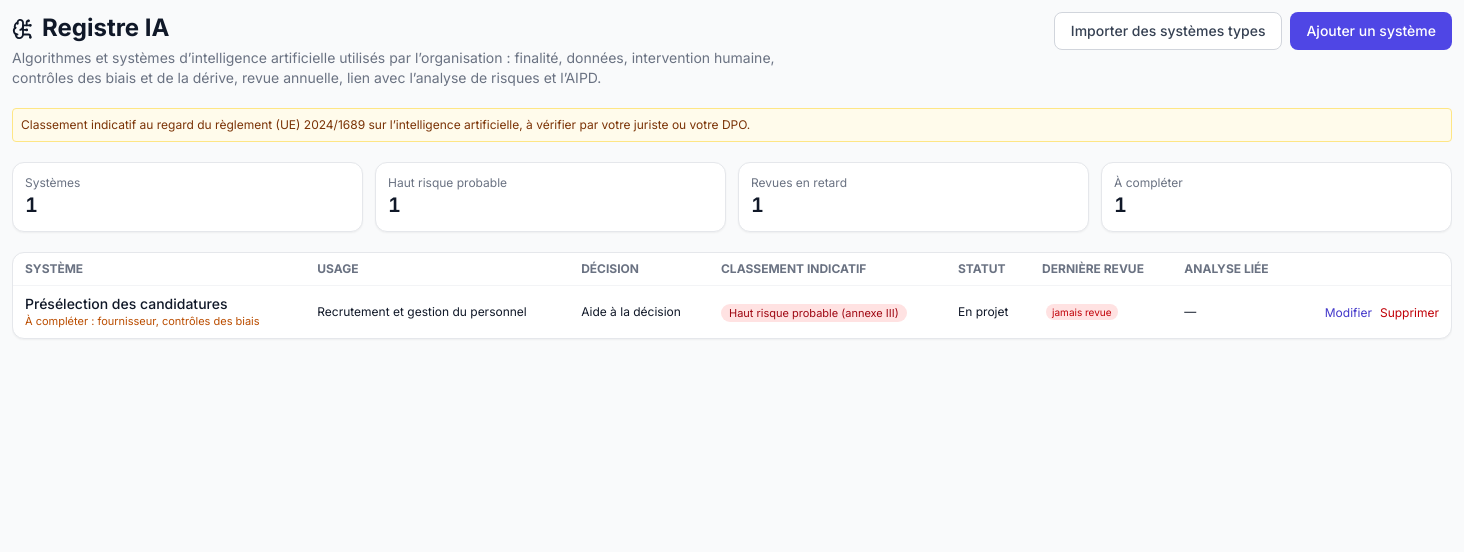
Test case: RegistreIaManager › import des systèmes types : déjà importé non sélectionnable, import des nouveaux
Click the button "Importer des systèmes types". click: coordinates (1168, 31)
box: [1054, 12, 1282, 50]
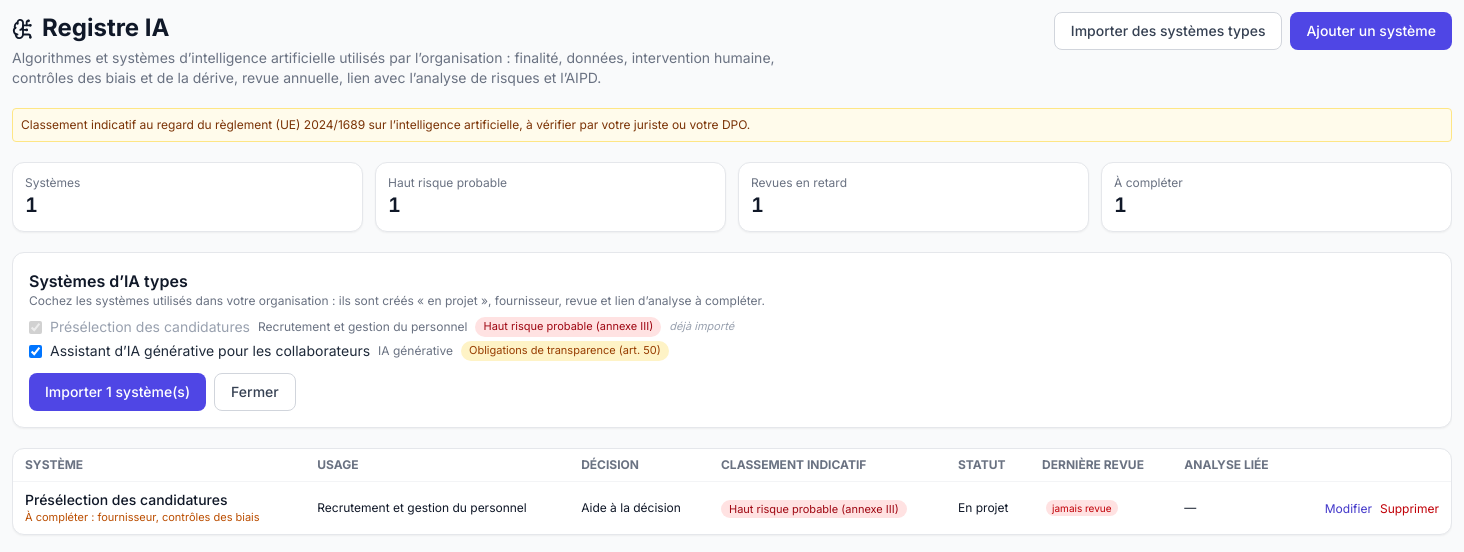
Check: the checkbox labelled "Présélection des candidatures" is disabled, box [29, 320, 42, 334]
Click the button "Importer 1 système(s)". click: coordinates (118, 392)
box: [29, 373, 206, 411]
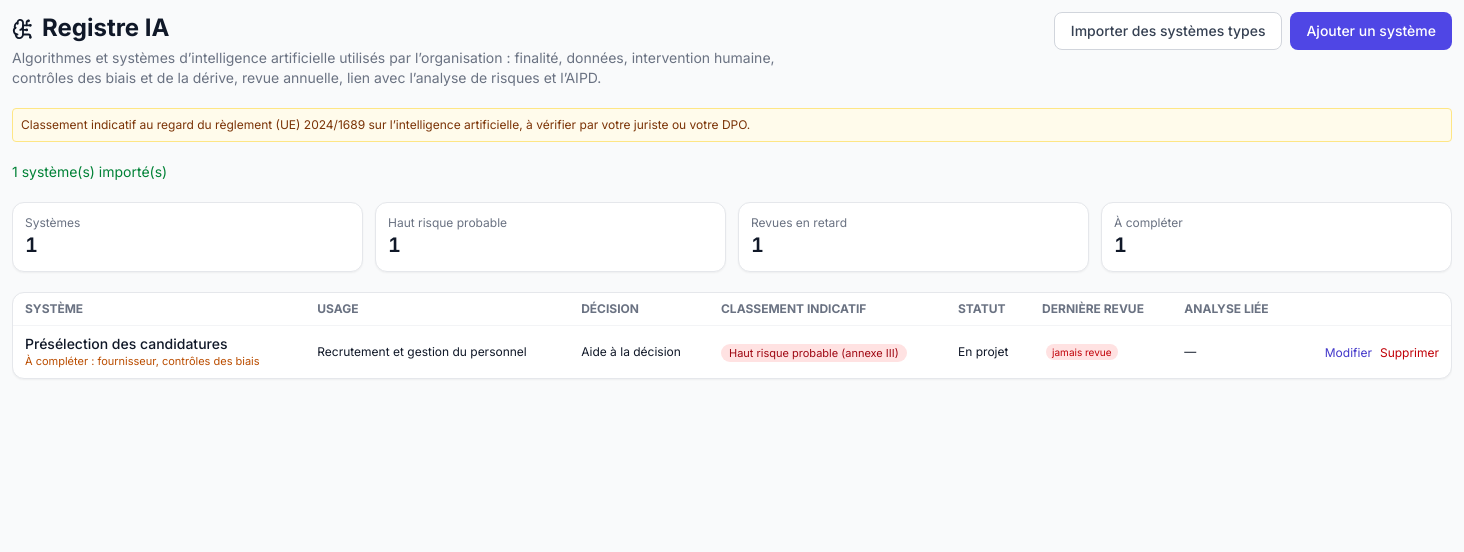
Check: the text "1 système(s) importé(s)" is shown, box [12, 163, 167, 180]
